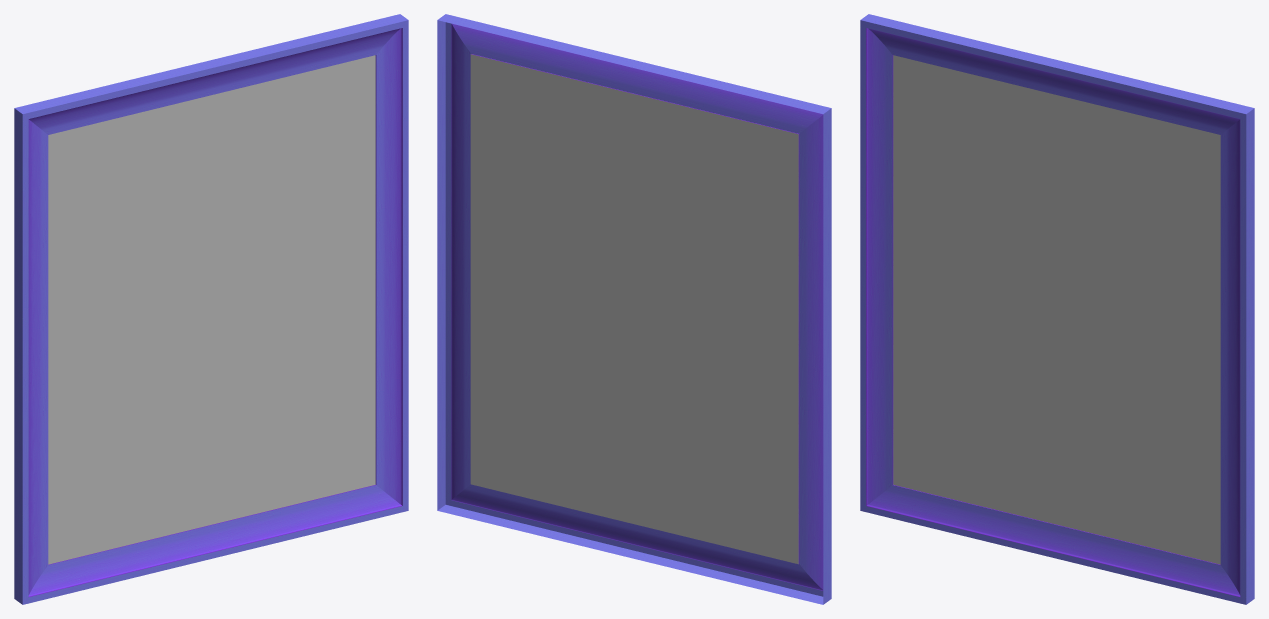
3 views of the same model, side by side, from view 1: azimuth 30°, elevation 25°; view 2: azimuth 150°, elevation 25°; view 3: azimuth 330°, elevation 25° (orthographic).
Parts seen in each view (by area): view 1: _14_09, _14_09_frame; view 2: _14_09, _14_09_frame; view 3: _14_09, _14_09_frame.
Boxes of the visible parts, <box> form: _14_09: <box>48,55,375,564</box>; _14_09_frame: <box>14,14,408,604</box>; _14_09: <box>470,54,798,564</box>; _14_09_frame: <box>437,14,831,604</box>; _14_09: <box>893,55,1220,564</box>; _14_09_frame: <box>860,14,1254,604</box>.
Bounding box in the file's own units: 200 × 243 × 7.52.
